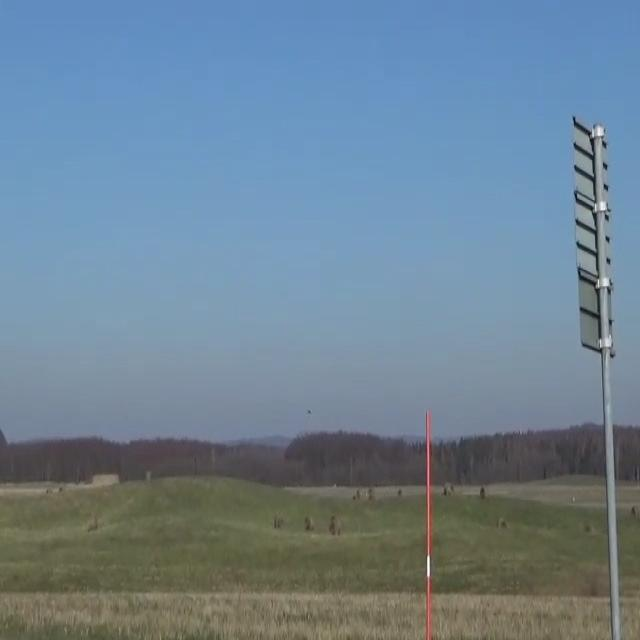bird: (303, 405, 315, 419)
